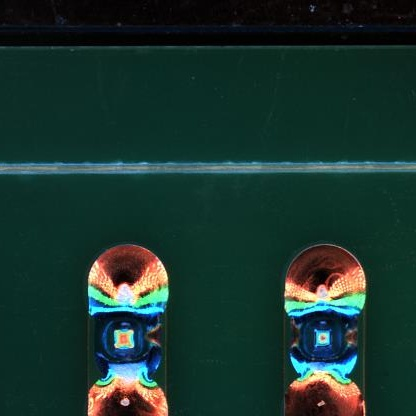spot: (93, 312, 163, 369), (290, 310, 359, 367)
